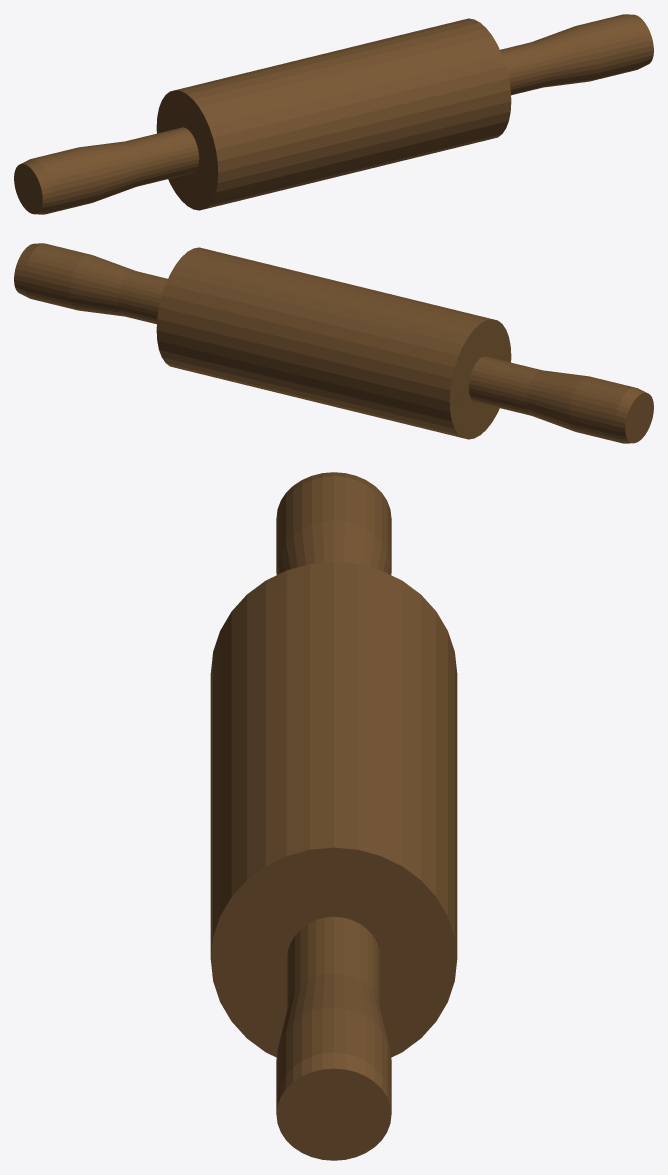
File: rolling_pin.fbx
3 views of the same model, one above another, from view 1: azimuth 30°, elevation 25°; view 2: azimuth 150°, elevation 25°; view 3: azimuth 270°, elevation 25° (orthographic). The views are drawn at different scales.
Visible parts, largest first — view 1: RollingPin.001; view 2: RollingPin.001; view 3: RollingPin.001.
Boxes of the visible parts, x1,y1,x2,y2 form: RollingPin.001: (14, 14, 653, 214); RollingPin.001: (14, 243, 653, 443); RollingPin.001: (210, 472, 457, 1160).
Size of the model in its own units: 27.05 by 4.73 by 4.72.
